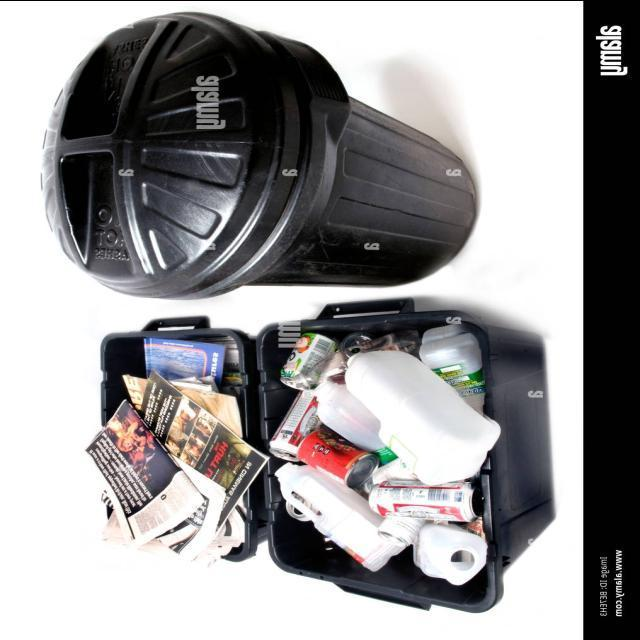Garbage: (270, 321, 499, 584)
Plastic_Container: (345, 350, 501, 484), (277, 464, 404, 570), (419, 322, 485, 412), (312, 379, 385, 451), (413, 522, 488, 584), (363, 458, 418, 492)
Tin_box: (297, 429, 379, 488)
can: (369, 480, 481, 521), (269, 390, 323, 460), (280, 331, 337, 376), (377, 515, 425, 546)
